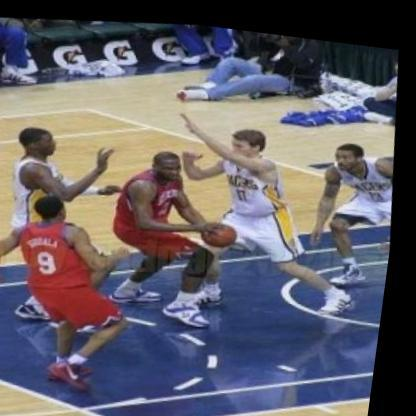basketball: (207, 211, 245, 248)
